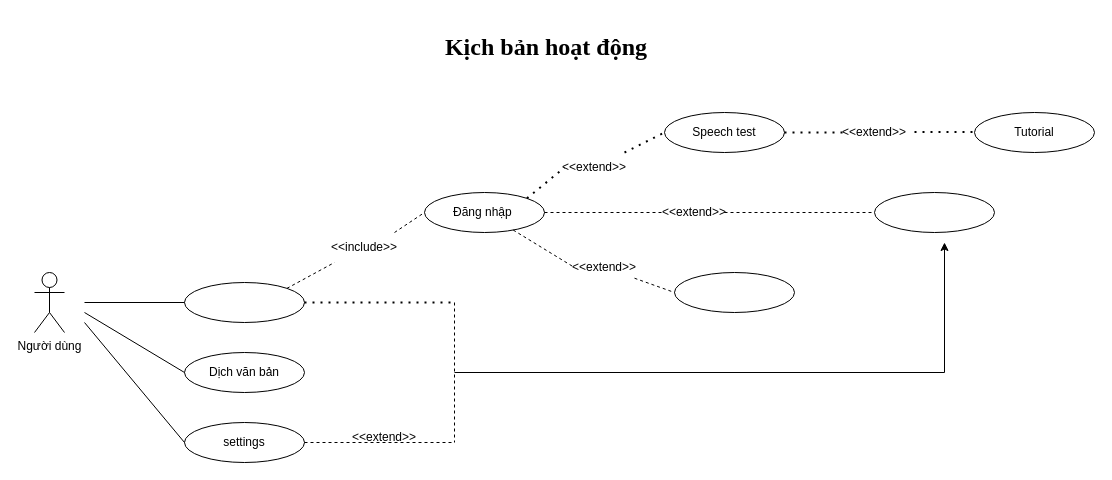
Some shapes in this 1112 by 480 pixel diagram are drawn without their labels. The box of each missing label's shape, as (x1, y1, x2, y2) in pixels:
Chat space: (674, 272, 794, 312)
Đăng kí: (184, 282, 304, 322)
Đăng xuất: (874, 192, 994, 232)
